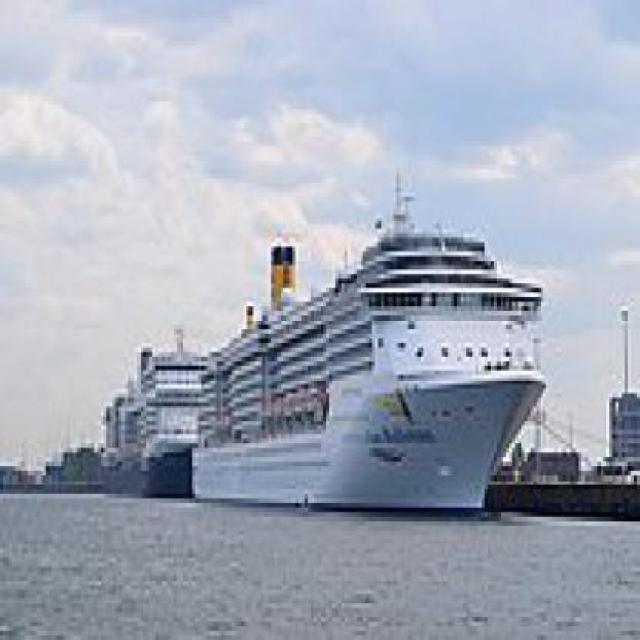cruise: (196, 170, 556, 527)
